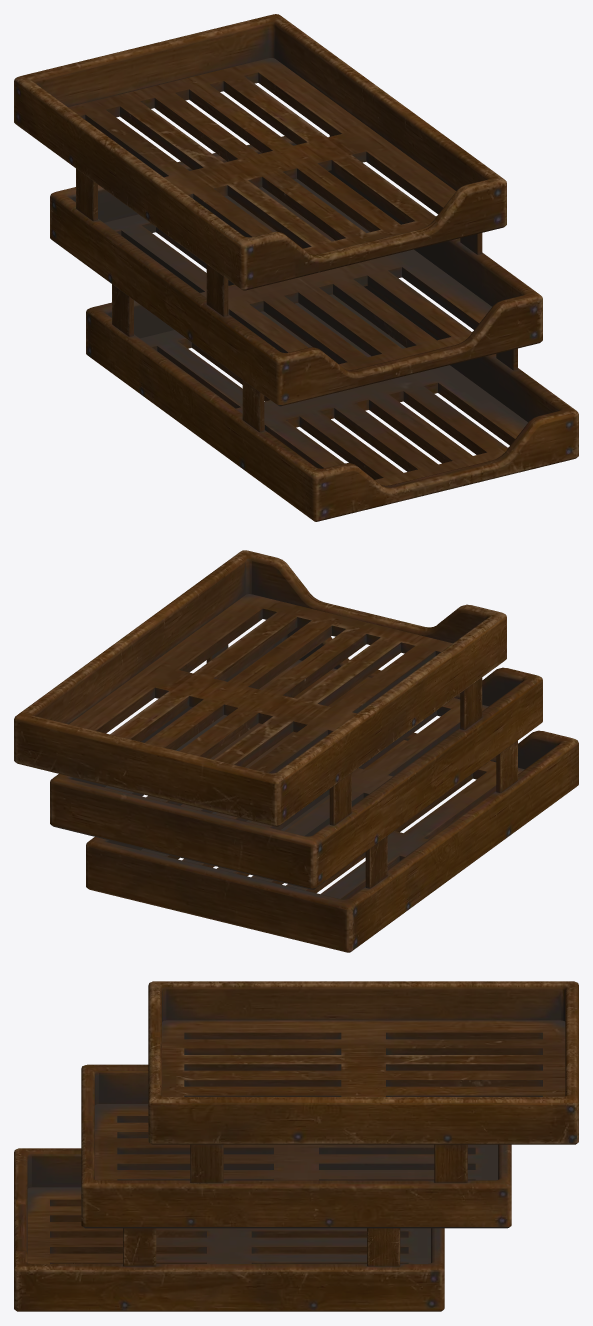
File: file-rack.glb
3 renders of one model, top to bottom at view 1: azimuth 30°, elevation 25°; view 2: azimuth 150°, elevation 25°; view 3: azimuth 270°, elevation 25°, orthographic. The views are drawn at different scales.
Parts seen in each view (by area): view 1: Cloner; view 2: Cloner; view 3: Cloner.
Boxes of the visible parts, box(x1,y1,x2,y2) form: Cloner: box(14, 14, 578, 521); Cloner: box(14, 550, 578, 952); Cloner: box(14, 981, 578, 1311).
Bounding box in the file's own units: 1.15 × 0.9373 × 2.27.
1 material, 1 textured.
